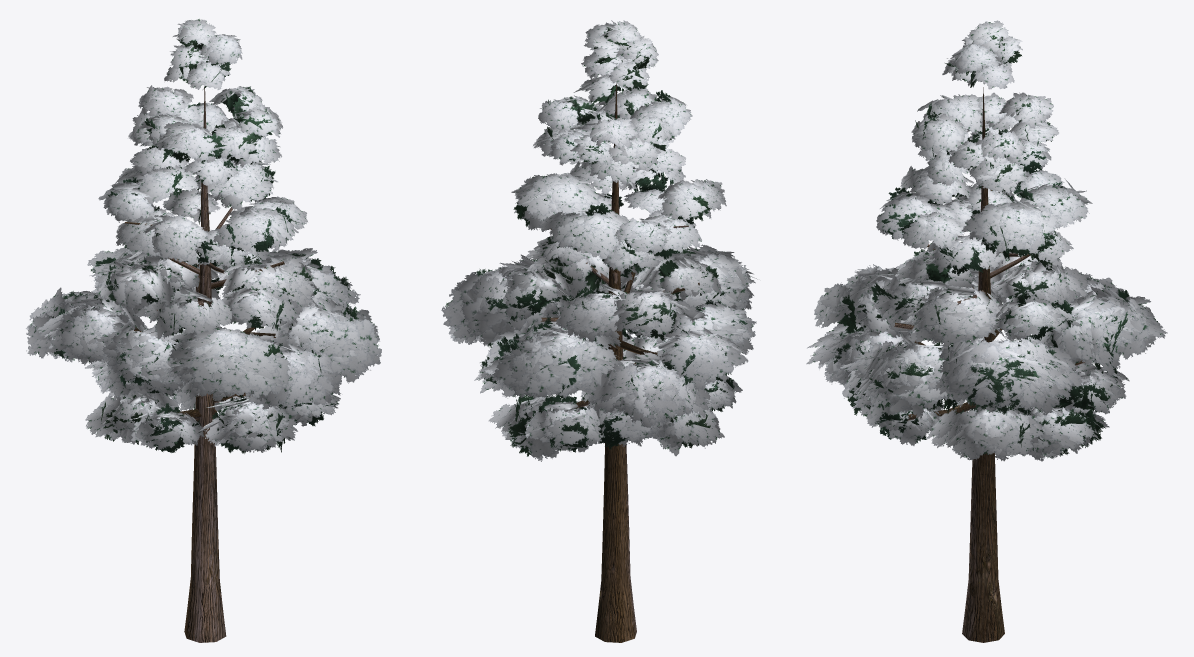
File: mm6_deco_snotre03.glb
The picture shows the model from 3 angles, left to right: view 1: azimuth 30°, elevation 25°; view 2: azimuth 150°, elevation 25°; view 3: azimuth 270°, elevation 25°; orthographic projection.
Visible parts, largest first — view 1: Tree; view 2: Tree; view 3: Tree.
Boxes of the visible parts, x1,y1,x2,y2 form: Tree: [26, 19, 381, 642]; Tree: [441, 20, 757, 642]; Tree: [806, 20, 1167, 642].
Size of the model in its own units: 1.52 by 2.9 by 1.65.
2 materials, 2 textured.
